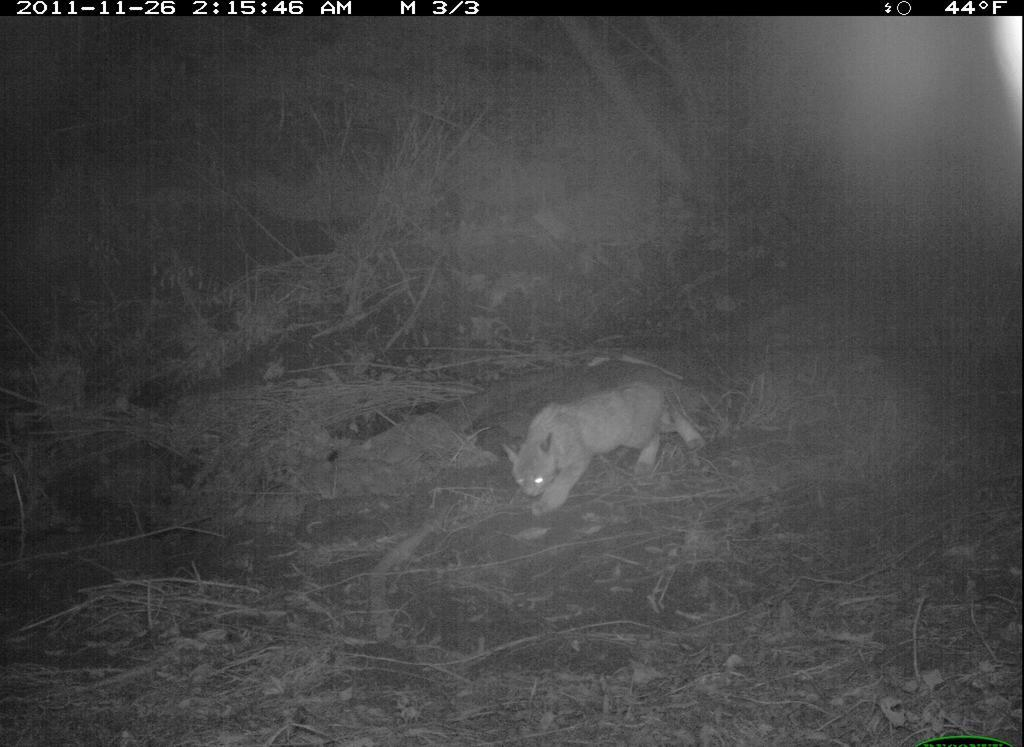bobcat: (500, 376, 706, 515)
